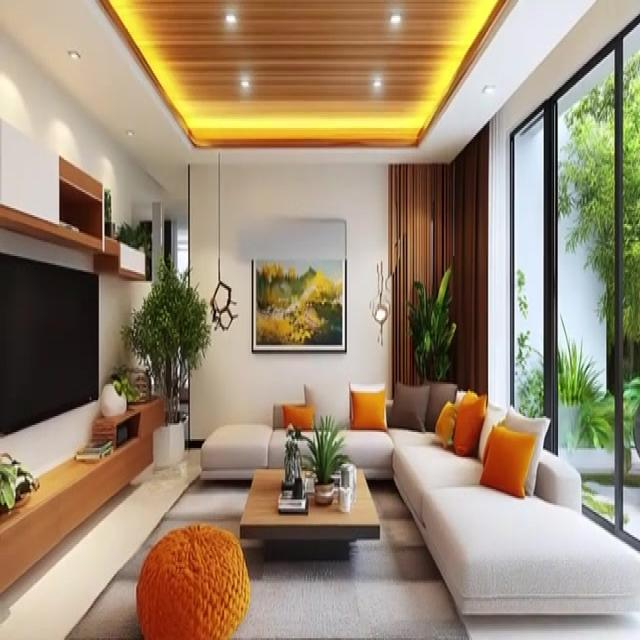obstacle: (199, 382, 639, 638), (239, 464, 380, 558)
